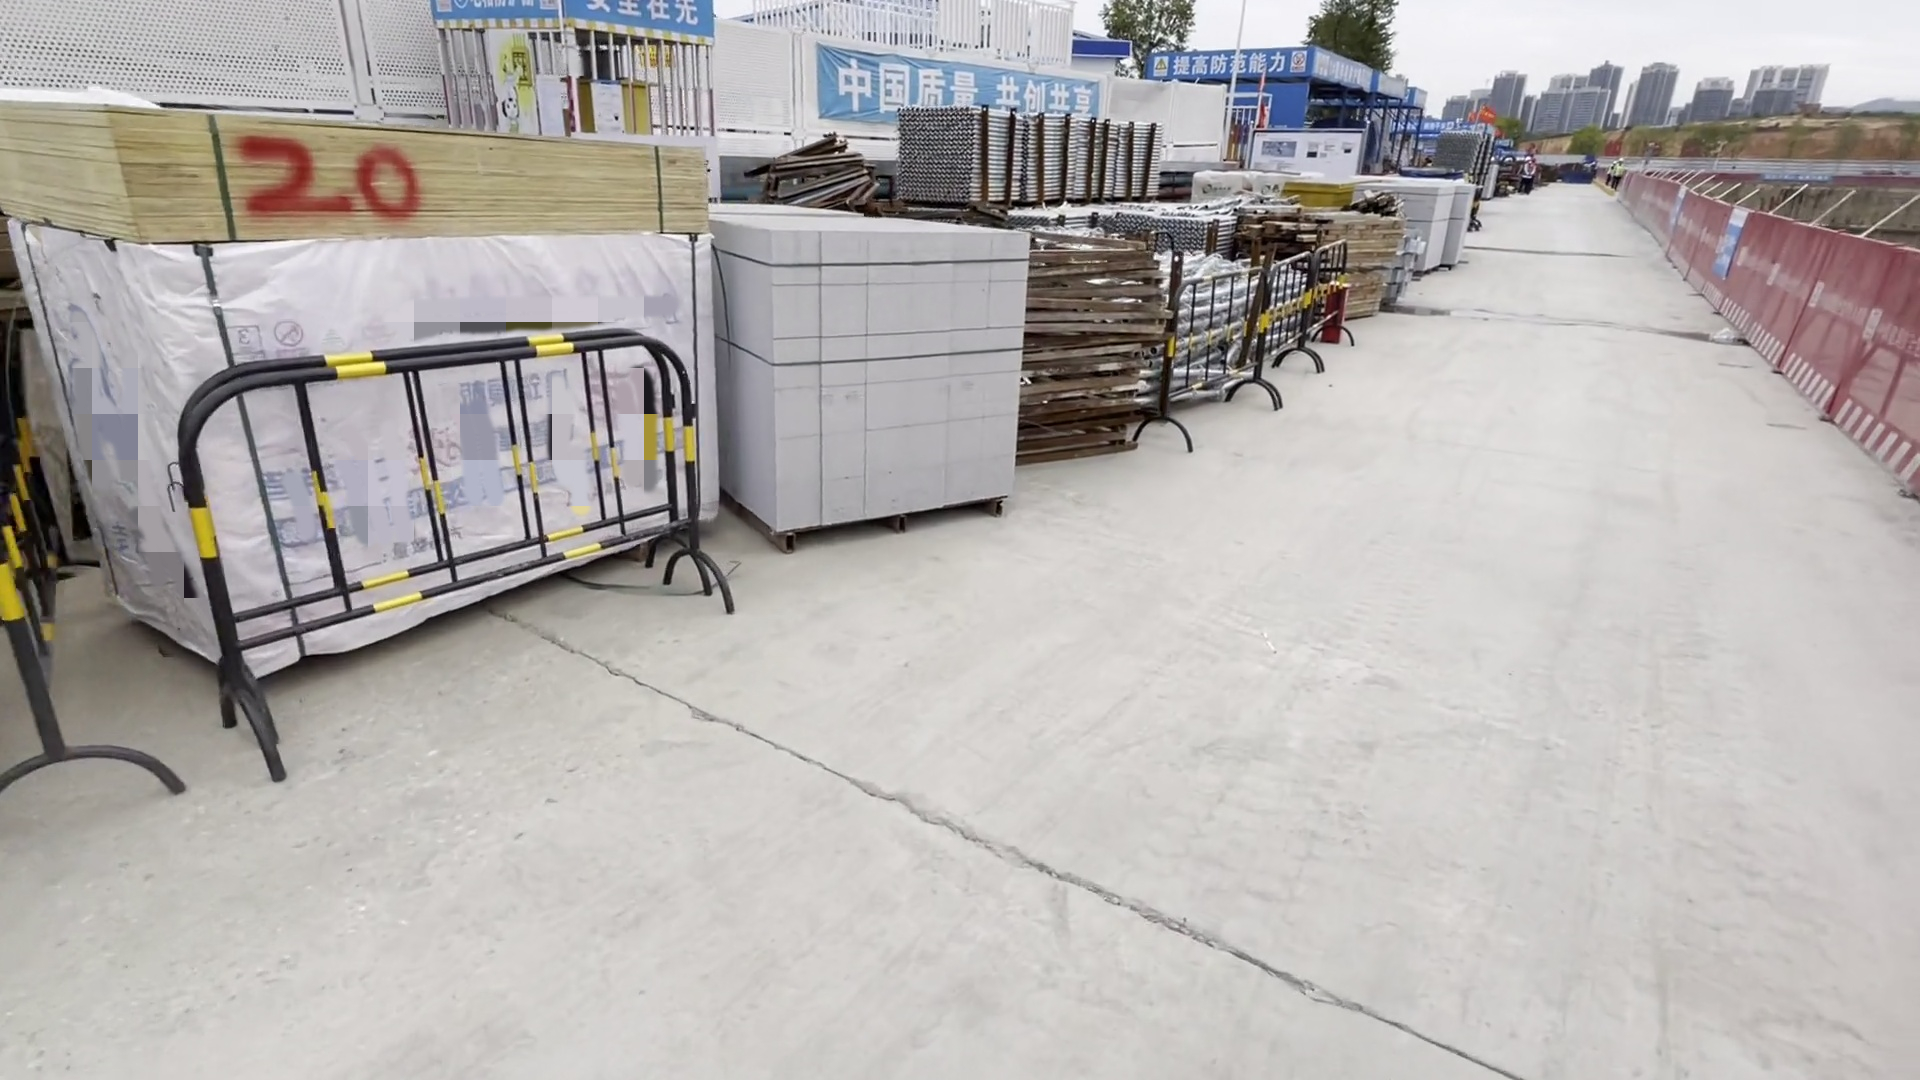board: (78, 112, 692, 564)
brick: (679, 200, 1038, 553), (1367, 177, 1485, 274)
fence: (1611, 156, 1920, 489)
scaffold: (907, 113, 1241, 244)
slogan: (818, 42, 1096, 131), (1146, 51, 1313, 76)
wood: (1299, 207, 1393, 331)
